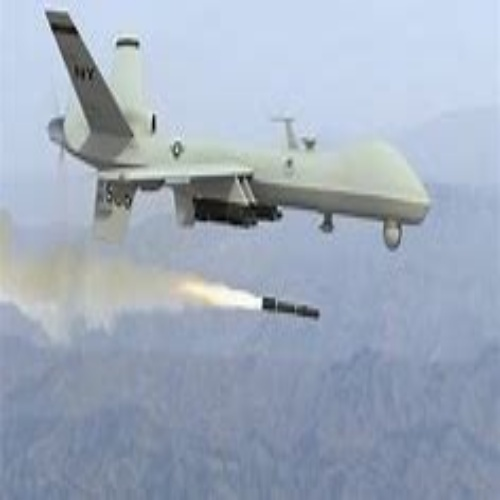uav: (42, 8, 433, 259)
